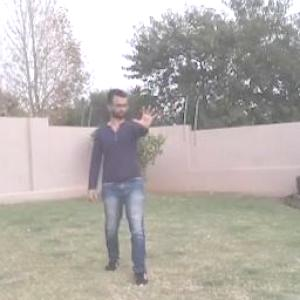follow_hand: (133, 101, 162, 128)
